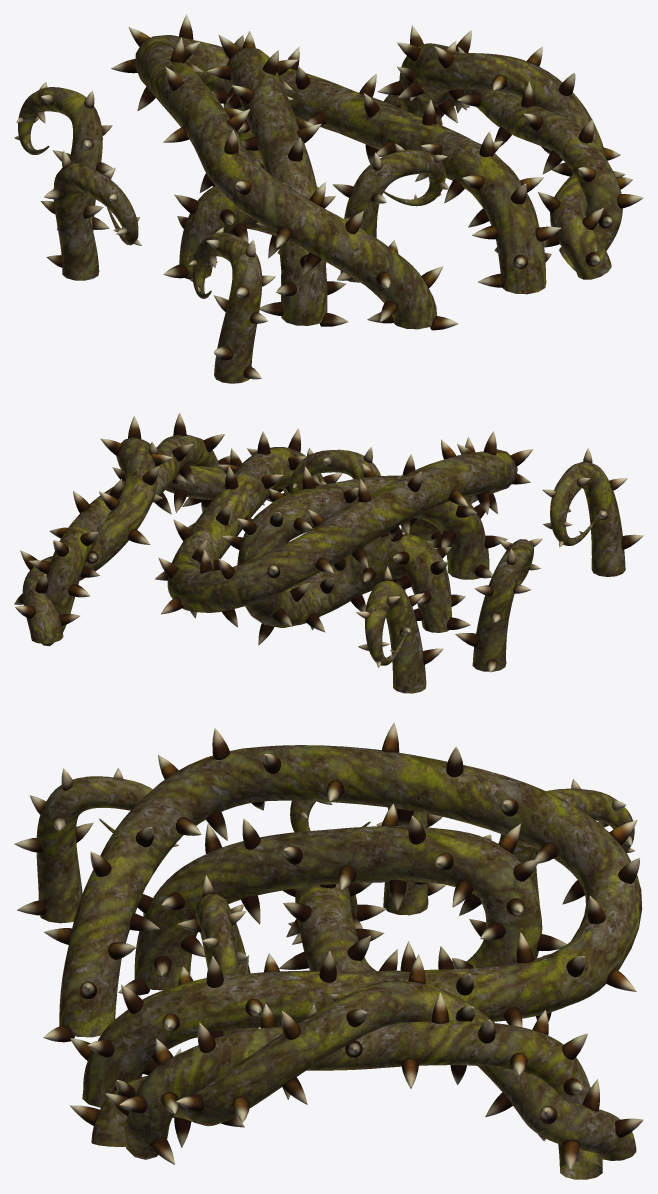
Rendered from modular_vines.glb.
3 views of the same model, one above another, from view 1: azimuth 30°, elevation 25°; view 2: azimuth 150°, elevation 25°; view 3: azimuth 270°, elevation 25° (orthographic). The views are drawn at different scales.
Parts seen in each view (by area): view 1: Bramble1; view 2: Bramble1; view 3: Bramble1.
Part boxes in pixels (x1,y1,x2,y2): Bramble1: (14,14,643,383); Bramble1: (14,412,643,693); Bramble1: (14,722,643,1179).
Size of the model in its own units: 13.16 by 5.28 by 11.49.
1 material, 1 textured.
